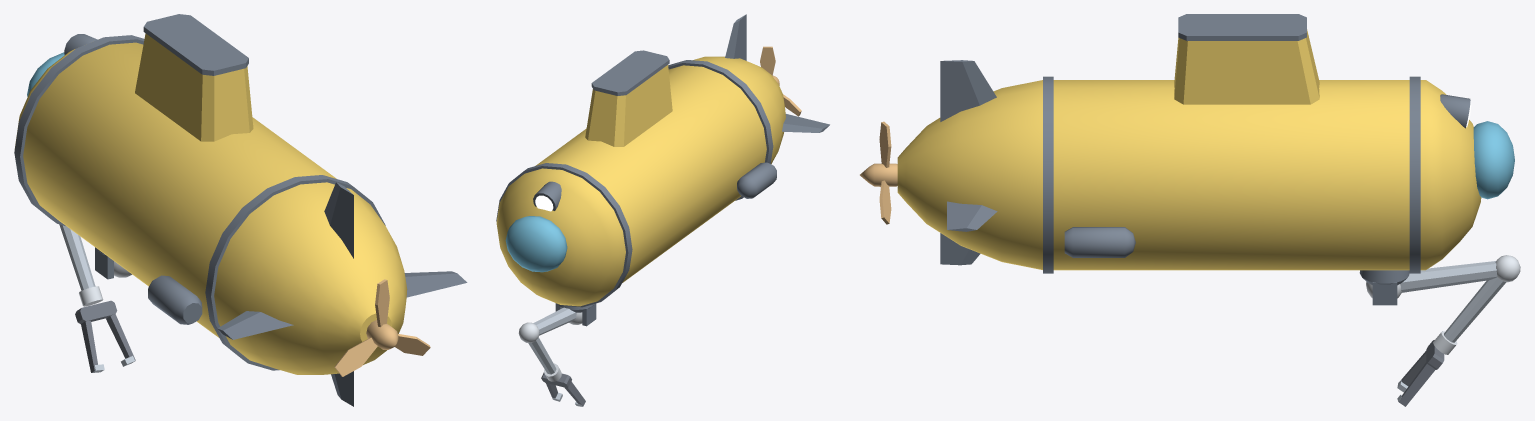
Rendered from submarine.glb.
3 views of the same model, side by side, from view 1: azimuth 30°, elevation 25°; view 2: azimuth 150°, elevation 25°; view 3: azimuth 270°, elevation 25° (orthographic). The views are drawn at different scales.
Visible parts, largest first — view 1: Sub_Hull, Sub_Propeller, Arm_Forearm, Claw_Palm, Arm_Shoulder, Claw_FingerL, Claw_FingerR; view 2: Sub_Hull, Arm_Forearm, Sub_LightMount, Arm_UpperArm, Sub_Propeller, Arm_Shoulder; view 3: Sub_Hull, Arm_UpperArm, Arm_Forearm, Sub_Propeller, Arm_Shoulder, Sub_LightMount, Arm_Base.
Part boxes in pixels (x1,y1,x2,y2): Sub_Hull: [14, 14, 467, 406]; Sub_Propeller: [334, 279, 430, 376]; Arm_Forearm: [59, 224, 95, 290]; Claw_Palm: [75, 300, 117, 324]; Arm_Shoulder: [95, 247, 131, 279]; Claw_FingerL: [81, 320, 104, 372]; Claw_FingerR: [106, 314, 135, 366]; Sub_Hull: [496, 14, 829, 307]; Arm_Forearm: [518, 322, 556, 374]; Sub_LightMount: [533, 181, 561, 211]; Arm_UpperArm: [533, 307, 576, 335]; Sub_Propeller: [760, 46, 801, 116]; Arm_Shoulder: [555, 303, 596, 326]; Sub_Hull: [897, 14, 1514, 273]; Arm_UpperArm: [1400, 261, 1497, 292]; Arm_Forearm: [1444, 255, 1520, 342]; Sub_Propeller: [860, 121, 897, 224]; Arm_Shoulder: [1366, 282, 1401, 305]; Sub_LightMount: [1440, 94, 1471, 128]; Arm_Base: [1359, 270, 1409, 285].
Size of the model in its own units: 1.9 by 3.01 by 4.83.
